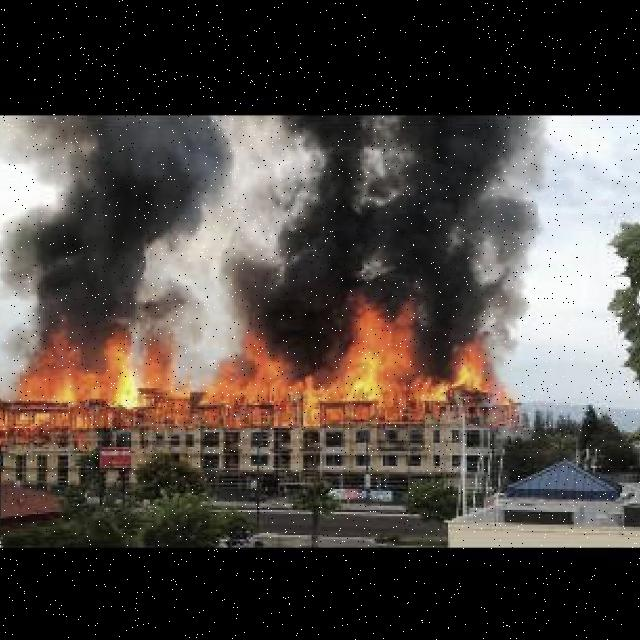fire: (3, 319, 507, 443)
smoke: (0, 113, 557, 317)
